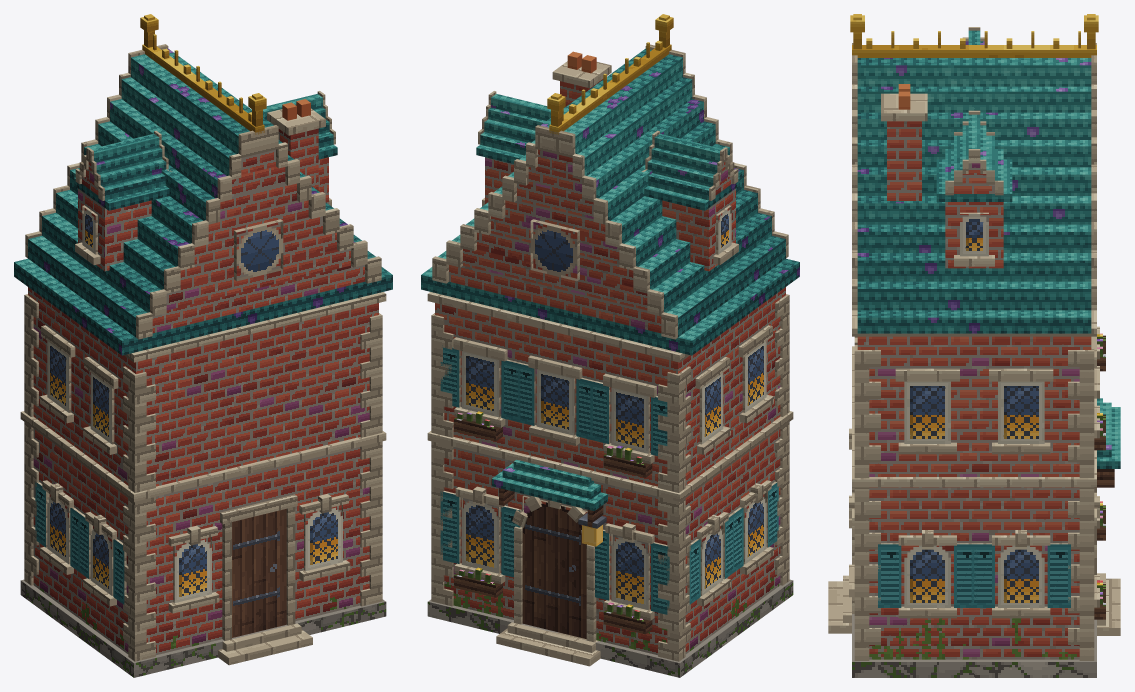
The model's file is brick_rose_cottage.glb.
3 views of the same model, side by side, from view 1: azimuth 30°, elevation 25°; view 2: azimuth 150°, elevation 25°; view 3: azimuth 270°, elevation 25° (orthographic). The views are drawn at different scales.
Visible parts, largest first — view 1: roof, upper_walls, ground_walls, back_door_panel, plinth, dormer_west_roof, floor_band, dormer_west_body, eave_band, gable_round_window_south, back_window_2, back_window_1 (+17 smaller); view 2: roof, upper_walls, ground_walls, front_door_panel, plinth, dormer_west_roof, floor_band, dormer_east_roof, dormer_west_body, eave_band, front_window_2, front_window_1 (+40 smaller); view 3: roof, ground_walls, upper_walls, plinth, dormer_east_roof, floor_band, roof_ridge, east_upper_window_1, east_upper_window_2, chimney_stack, east_window_1, east_window_2 (+30 smaller).
Boxes of the visible parts, left/top/right/bottom form: roof: left=14, top=34, right=392, bottom=355; upper_walls: left=28, top=287, right=378, bottom=486; ground_walls: left=33, top=429, right=369, bottom=655; back_door_panel: left=232, top=509, right=286, bottom=637; plinth: left=20, top=579, right=386, bottom=677; dormer_west_roof: left=74, top=133, right=169, bottom=210; floor_band: left=20, top=411, right=386, bottom=501; dormer_west_body: left=78, top=188, right=151, bottom=271; eave_band: left=124, top=292, right=386, bottom=362; gable_round_window_south: left=234, top=219, right=283, bottom=281; back_window_2: left=304, top=505, right=342, bottom=571; back_window_1: left=173, top=537, right=211, bottom=602; roof: left=421, top=40, right=799, bottom=355; upper_walls: left=435, top=287, right=785, bottom=486; ground_walls: left=444, top=429, right=780, bottom=655; front_door_panel: left=522, top=495, right=587, bottom=638; plinth: left=427, top=579, right=793, bottom=677; dormer_west_roof: left=644, top=133, right=739, bottom=210; floor_band: left=427, top=411, right=793, bottom=501; dormer_east_roof: left=476, top=94, right=550, bottom=163; dormer_west_body: left=662, top=188, right=735, bottom=271; eave_band: left=427, top=292, right=689, bottom=362; front_window_2: left=461, top=498, right=500, bottom=573; front_window_1: left=611, top=534, right=649, bottom=610; roof: left=857, top=31, right=1091, bottom=333; ground_walls: left=869, top=487, right=1079, bottom=659; upper_walls: left=857, top=336, right=1091, bottom=476; plinth: left=852, top=614, right=1096, bottom=677; dormer_east_roof: left=936, top=114, right=1012, bottom=201; floor_band: left=852, top=346, right=1096, bottom=487; roof_ridge: left=852, top=45, right=1096, bottom=57; east_upper_window_1: left=998, top=381, right=1044, bottom=443; east_upper_window_2: left=904, top=381, right=950, bottom=443; chimney_stack: left=887, top=121, right=921, bottom=200; east_window_1: left=998, top=545, right=1044, bottom=607; east_window_2: left=904, top=545, right=950, bottom=607.
Bounding box in the file's own units: 3.62 × 7.03 × 3.12.
Materials: 1 (1 with a texture image).
